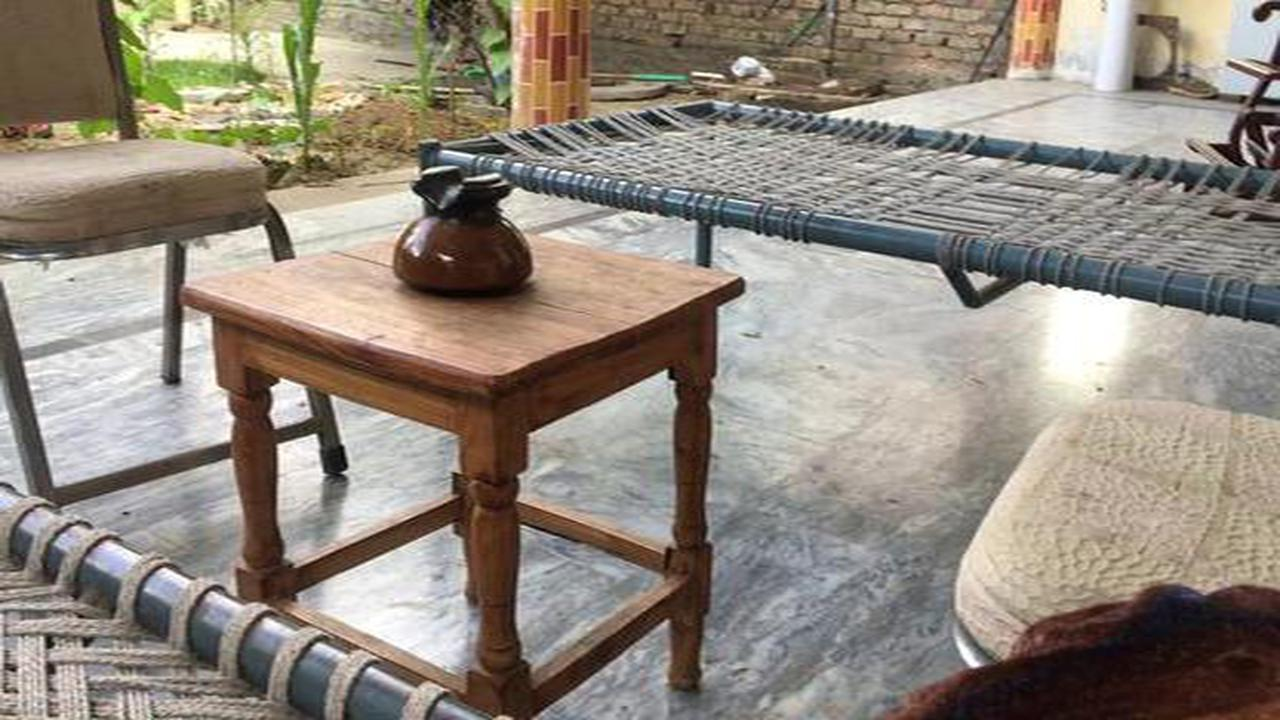insulator_pin: (376, 156, 554, 300)
